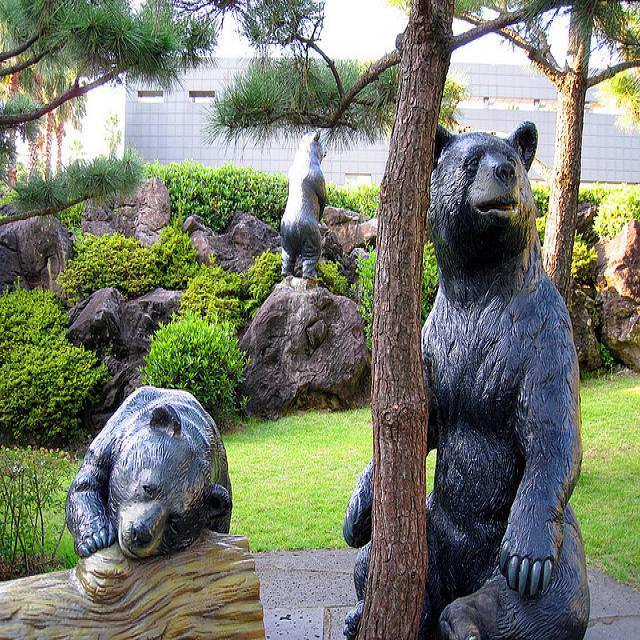Bear: (392, 110, 600, 640), (63, 372, 245, 566), (280, 118, 342, 287)
